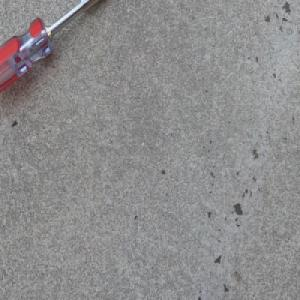Screwdriver: (0, 0, 101, 96)
